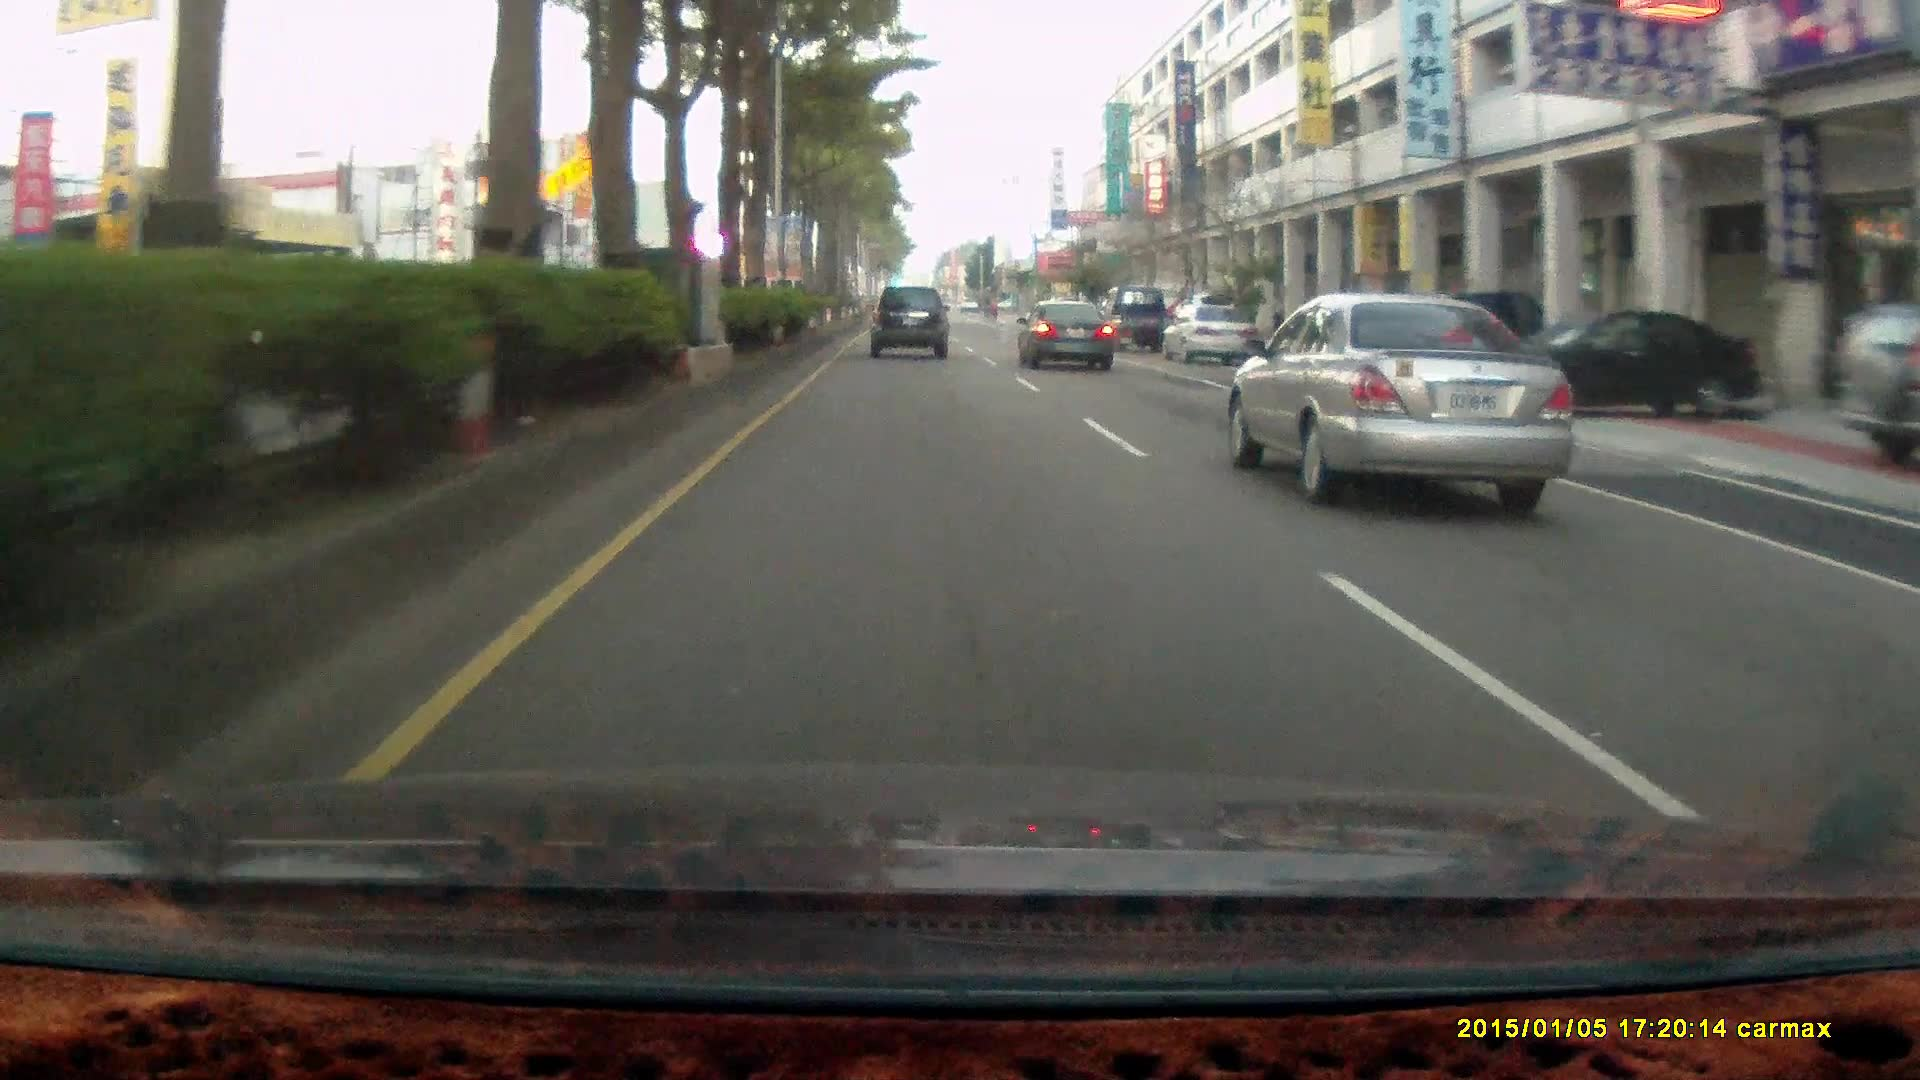vehicle: (1226, 294, 1580, 516), (1466, 306, 1766, 425), (1472, 305, 1760, 419), (1828, 301, 1920, 465), (1015, 299, 1120, 375), (1015, 301, 1116, 373), (869, 285, 952, 363), (1158, 301, 1258, 364), (866, 284, 949, 355), (1166, 309, 1263, 367), (1098, 287, 1168, 353)
